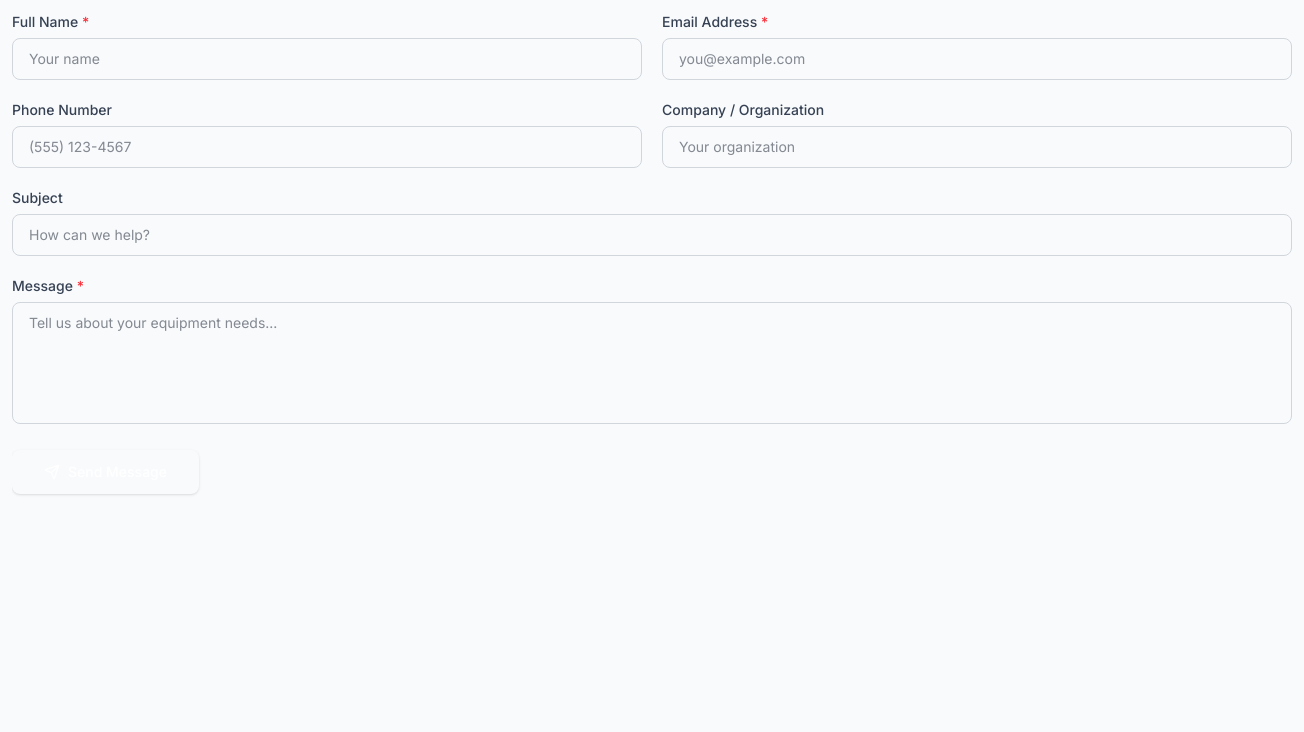
Test: ContactForm › shows invalid email error for bad email format
In the field labelled "Full Name *": (327, 59) x1=12 y1=38 x2=642 y2=80, type "John Doe"
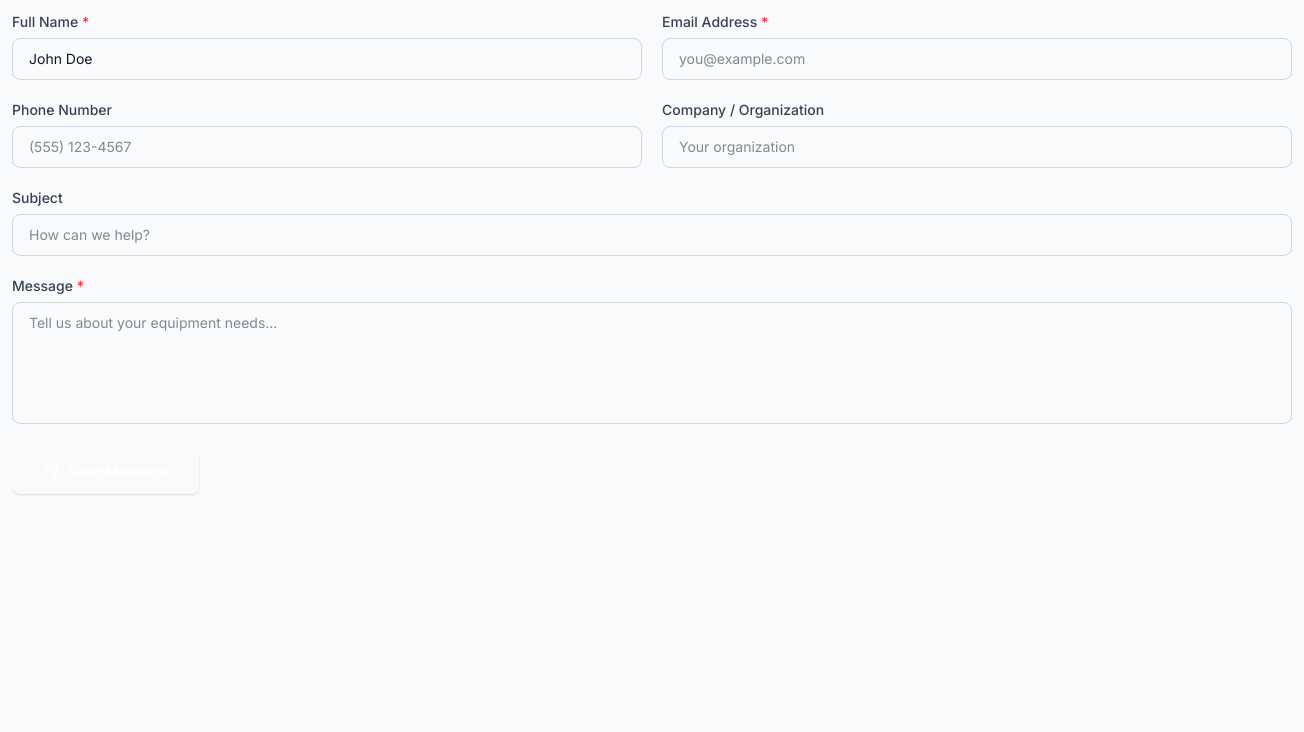
In the field labelled "Email Address *": (977, 59) x1=662 y1=38 x2=1292 y2=80, type "not-an-email"
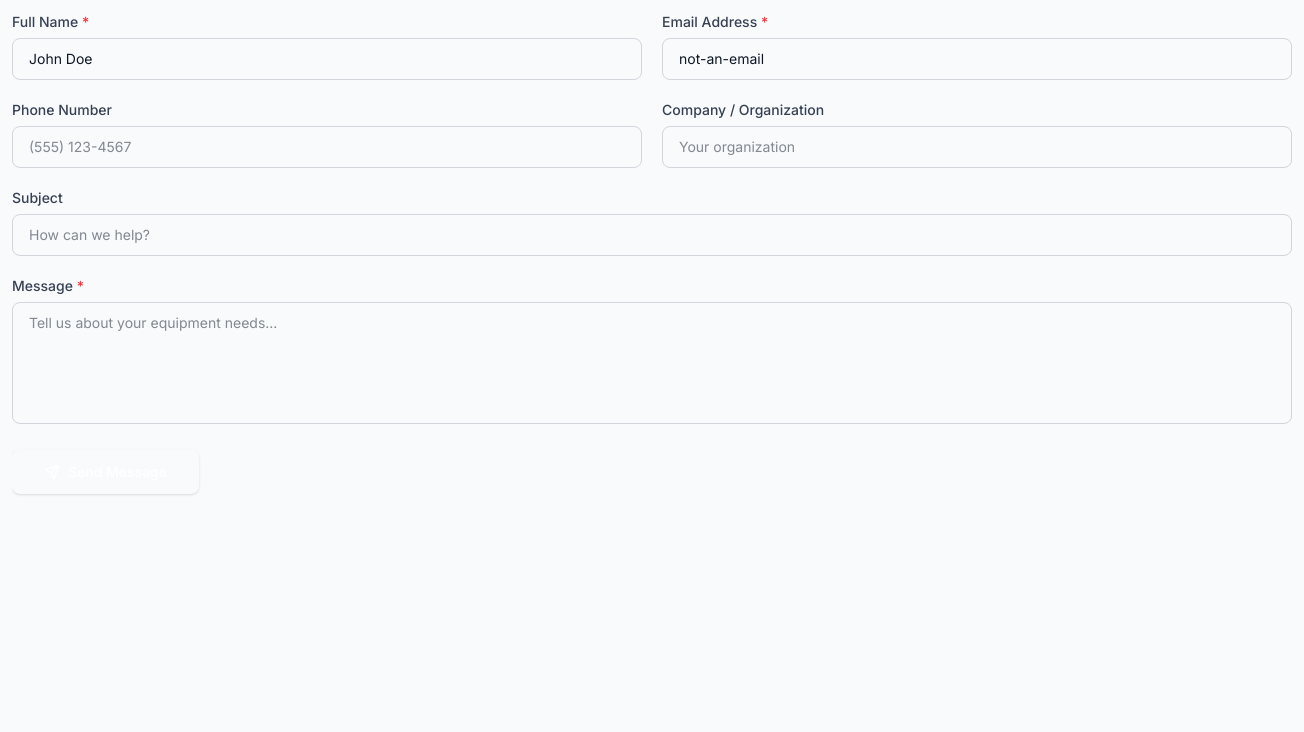
In the text box labelled "Message *": (652, 363) x1=12 y1=302 x2=1292 y2=424, type "Test message"
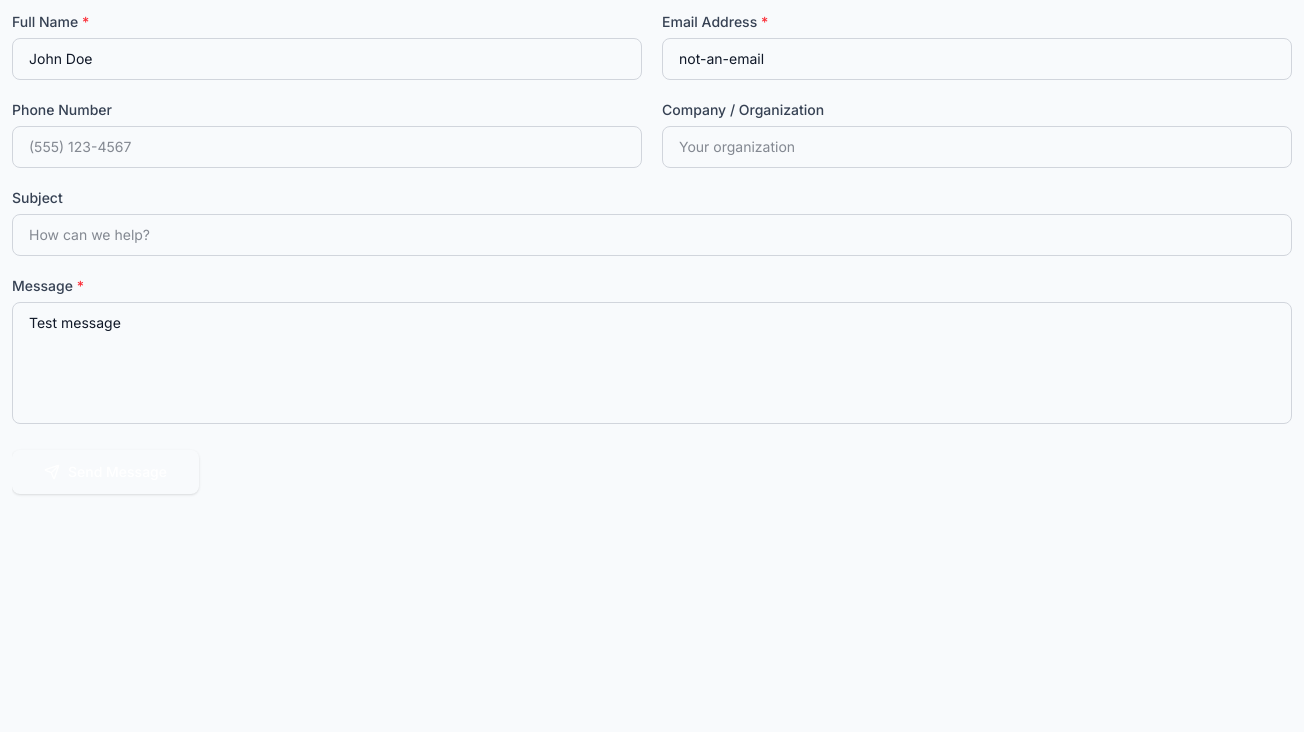
Click the button "Send Message": (106, 472) x1=12 y1=450 x2=199 y2=494
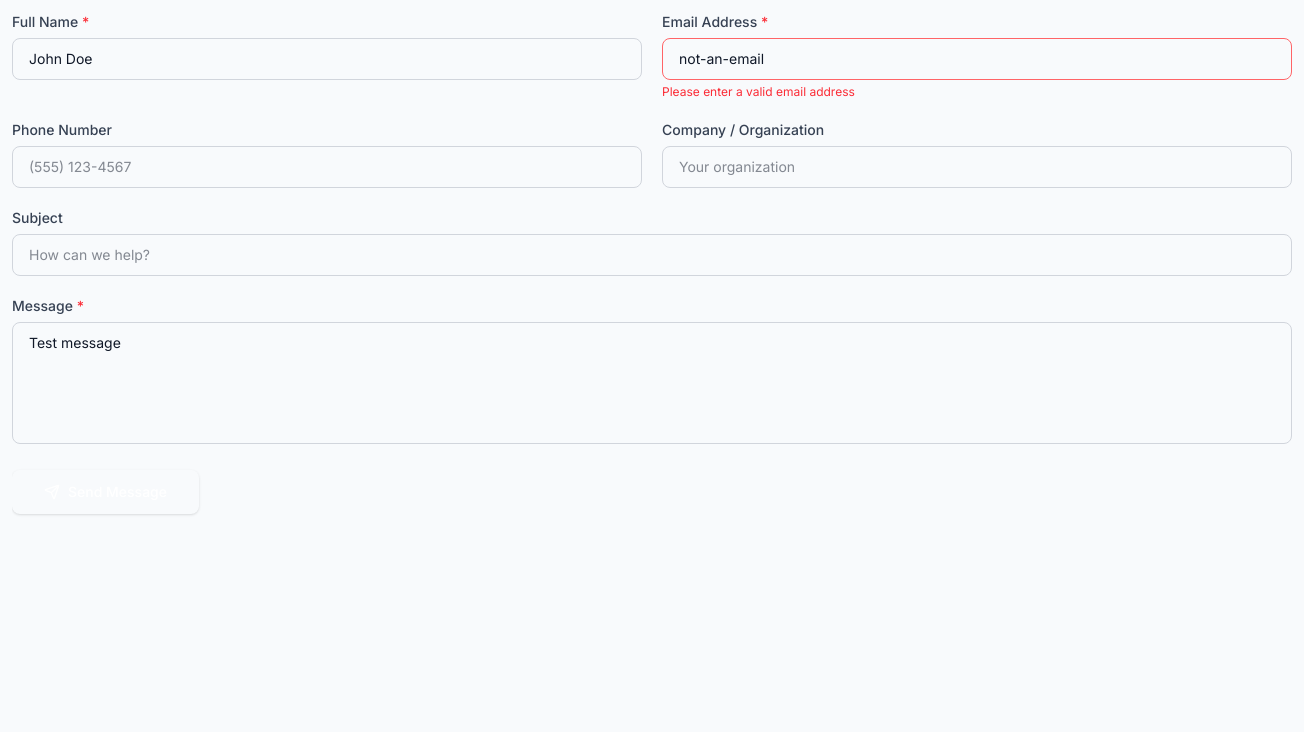
Expected: the text "Please enter a valid email address" is shown, x1=662 y1=84 x2=855 y2=99
